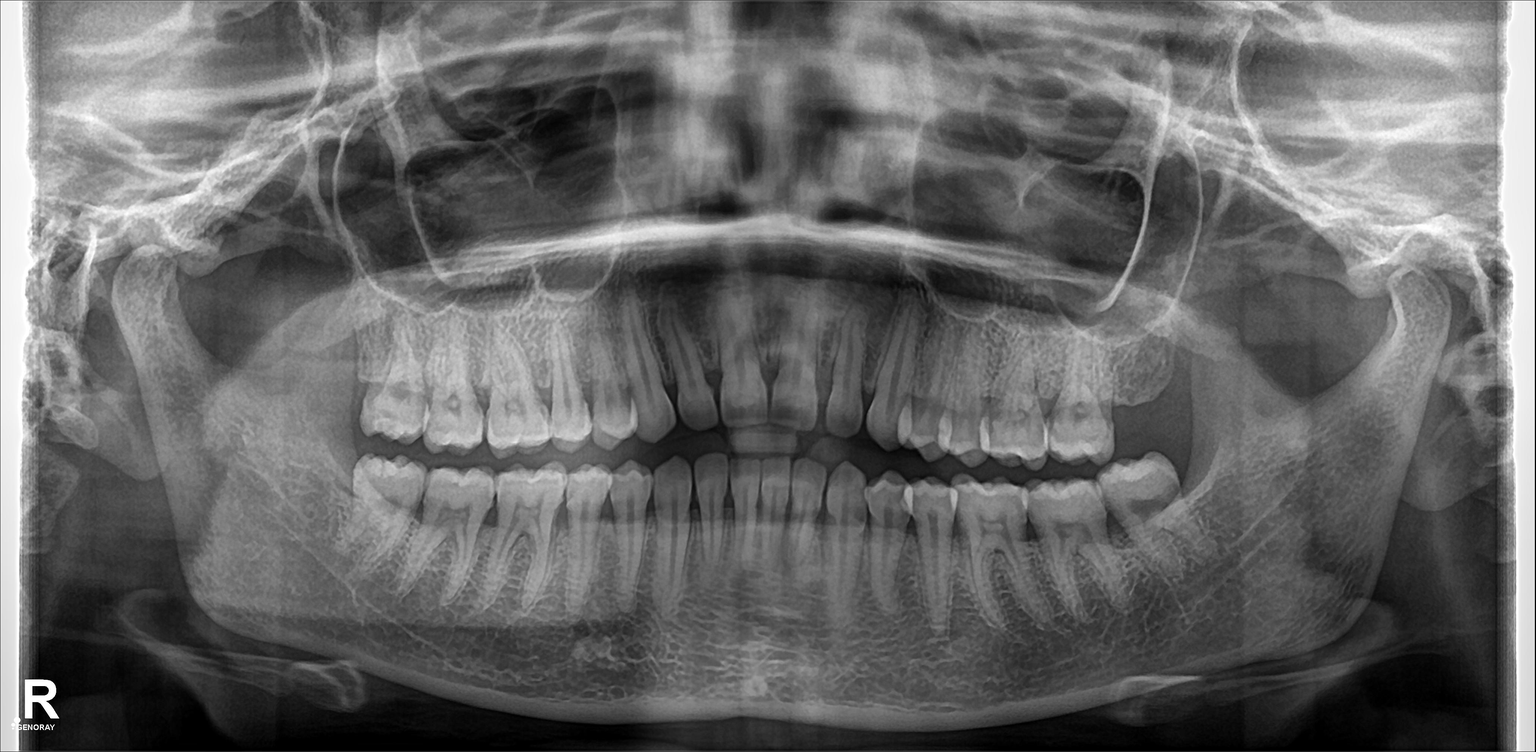Missing Tooth: (1104, 339, 1181, 439)
